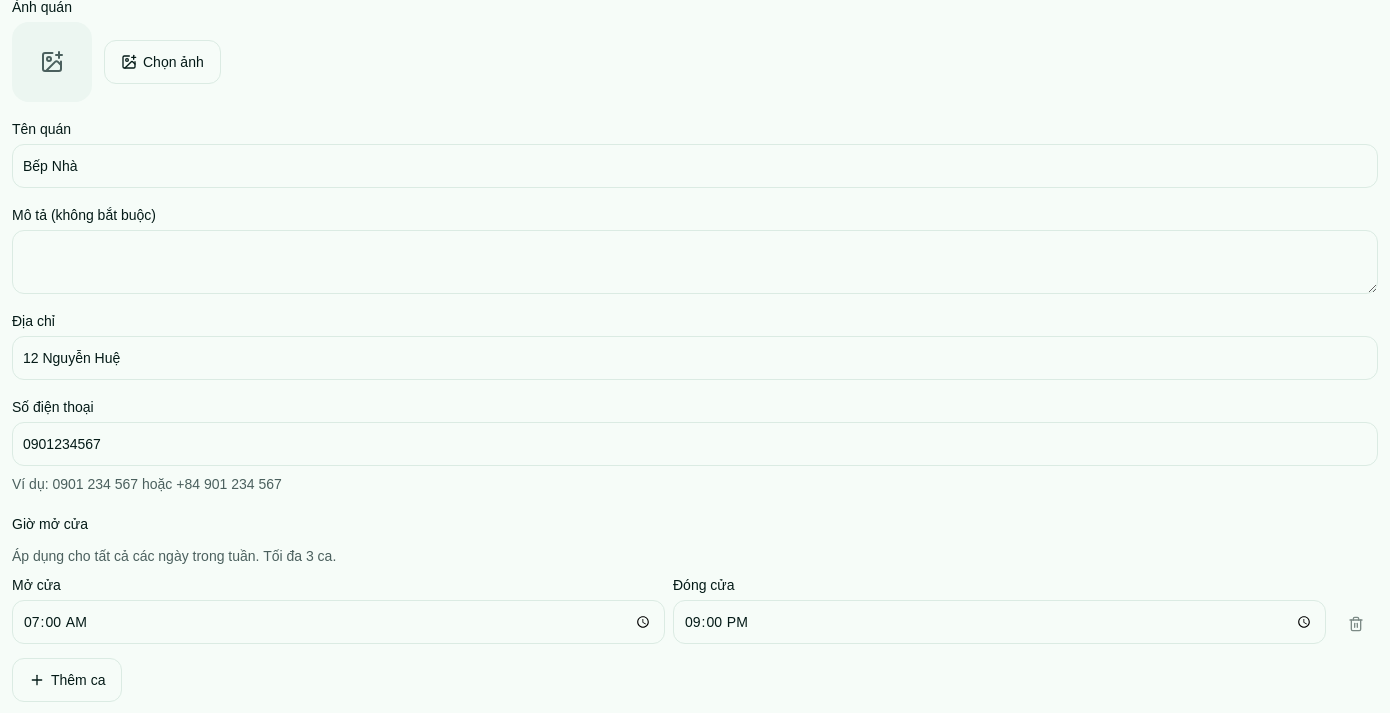
Test: shifts can be added up to three and removed down to one
The width and height of the screenshot is (1390, 713).
Step 1. Click the button "Thêm ca" → [67, 680], box x1=12 y1=658 x2=122 y2=702
(page scrolled)
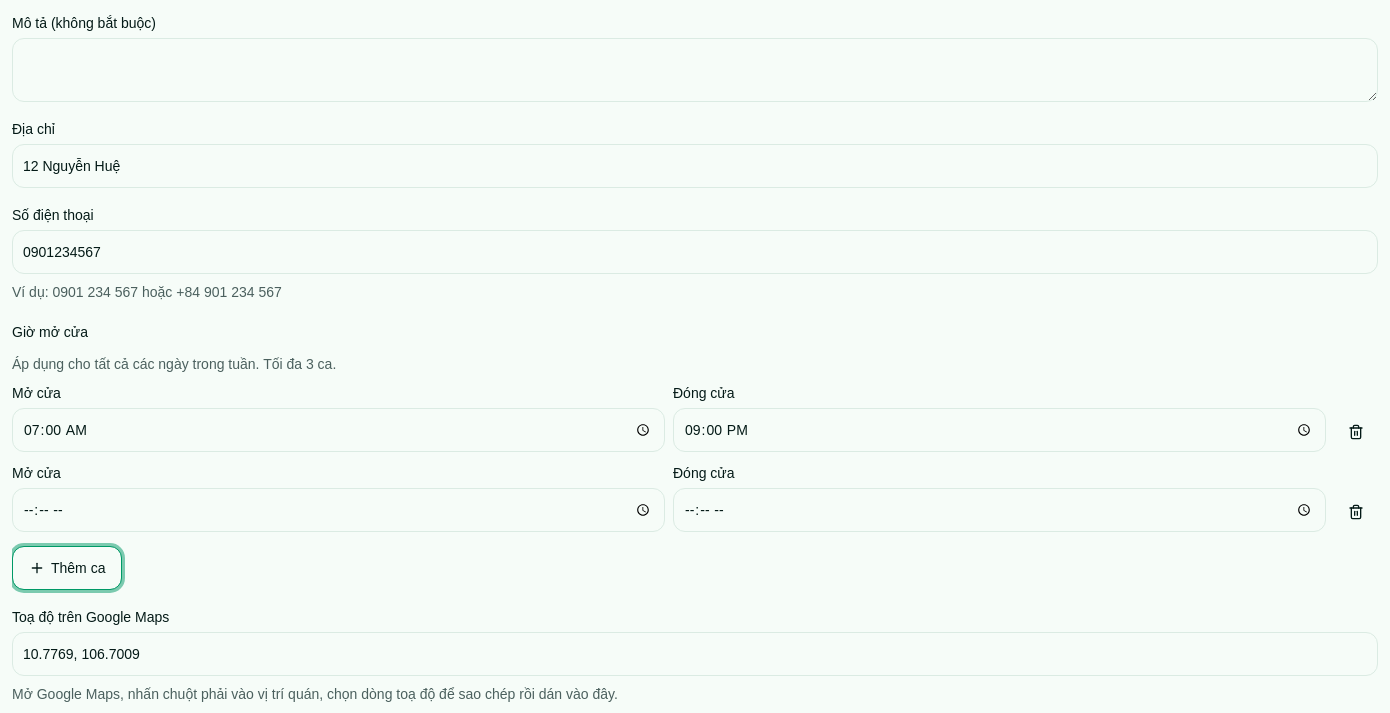
Step 2. Click the button "Thêm ca" → [67, 568], box x1=12 y1=546 x2=122 y2=590
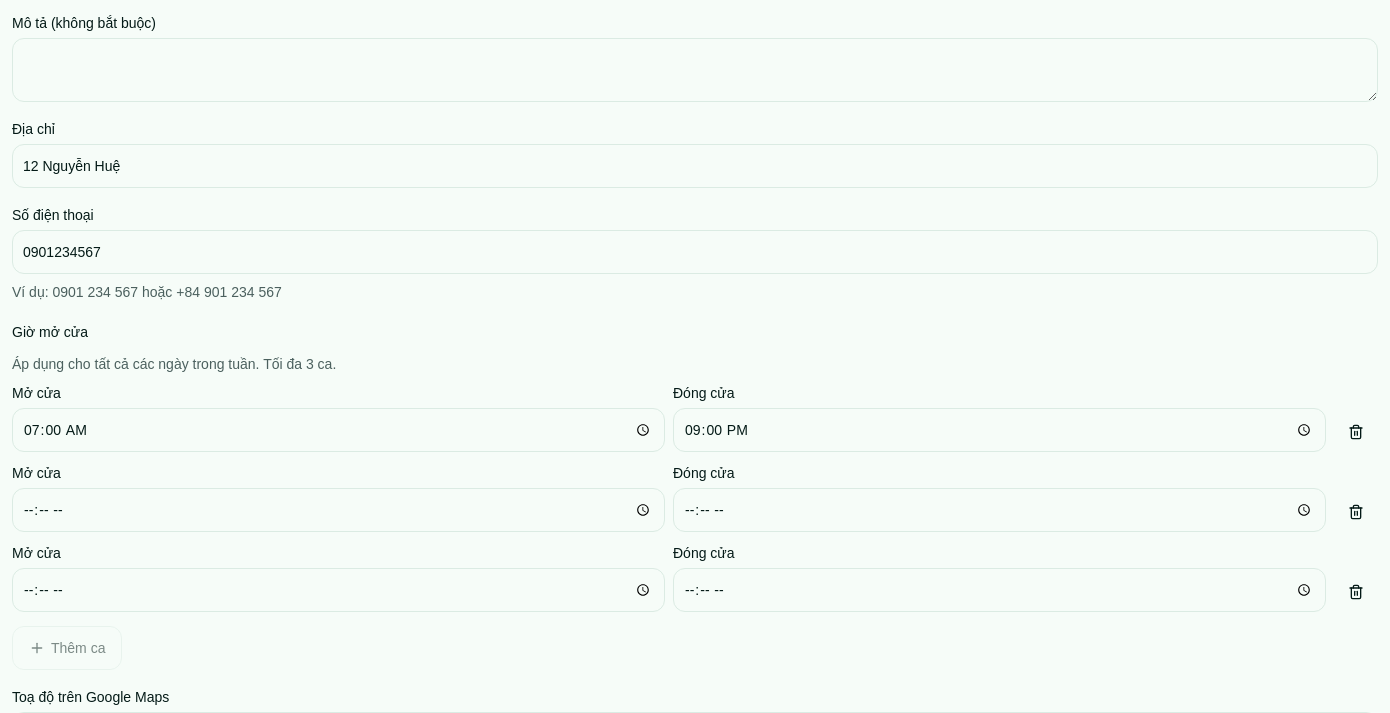
Expected: the number of time fields named "Giờ mở cửa, ca" is 3, x1=12 y1=408 x2=665 y2=452; x1=12 y1=488 x2=665 y2=532; x1=12 y1=568 x2=665 y2=612
Expected: the button "Thêm ca" is disabled, x1=12 y1=626 x2=122 y2=670
Step 3. Click the button named "Xoá ca 3" → [1356, 592], box x1=1334 y1=570 x2=1378 y2=614
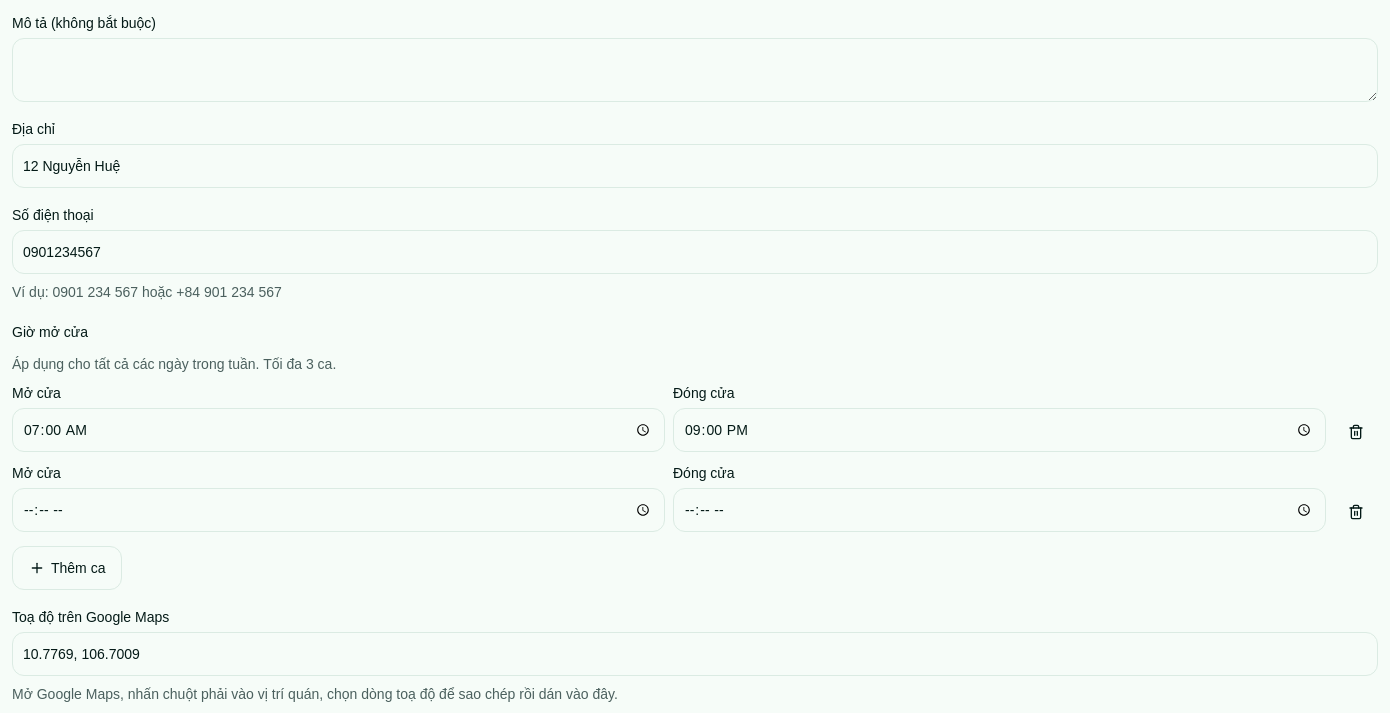
Step 4. Click the button named "Xoá ca 2" → [1356, 512], box x1=1334 y1=490 x2=1378 y2=534
(page scrolled)
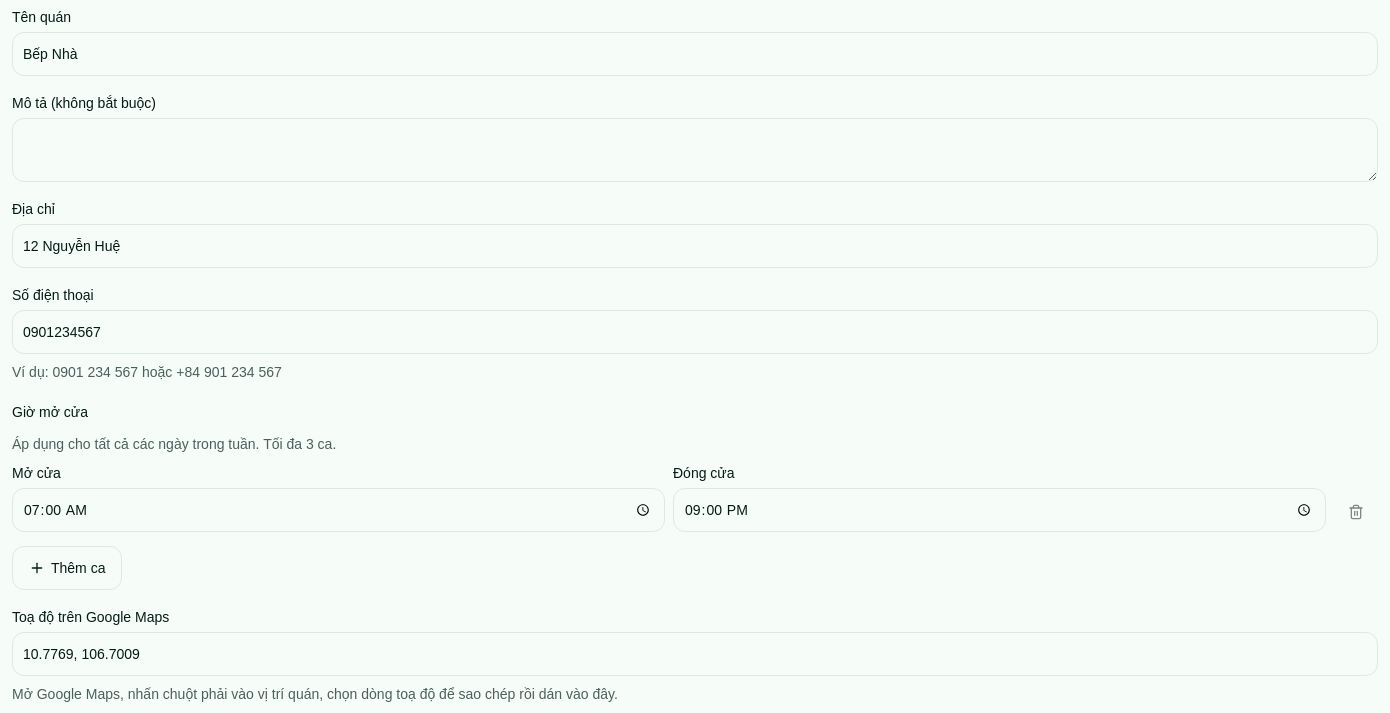
Expected: the number of time fields named "Giờ mở cửa, ca" is 1, x1=12 y1=488 x2=665 y2=532
Expected: the button named "Xoá ca 1" is disabled, x1=1334 y1=490 x2=1378 y2=534
